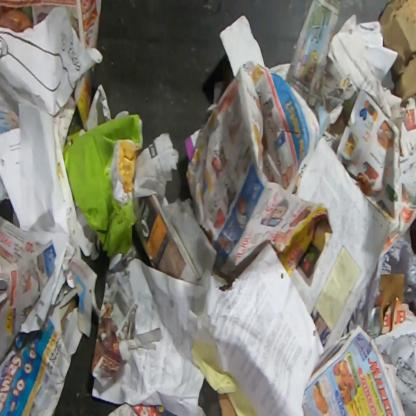cardboard: (67, 114, 144, 258), (377, 0, 415, 107), (374, 272, 406, 334), (63, 116, 87, 172), (217, 391, 237, 415)
